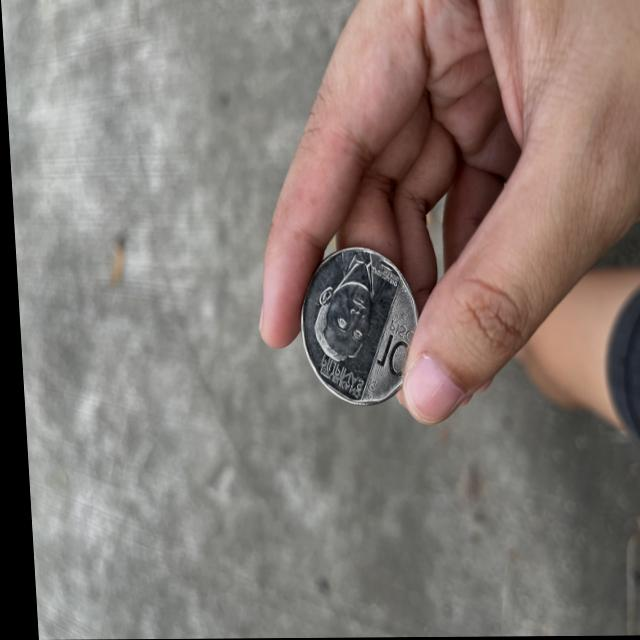10_New_Front: (363, 320, 411, 380)
